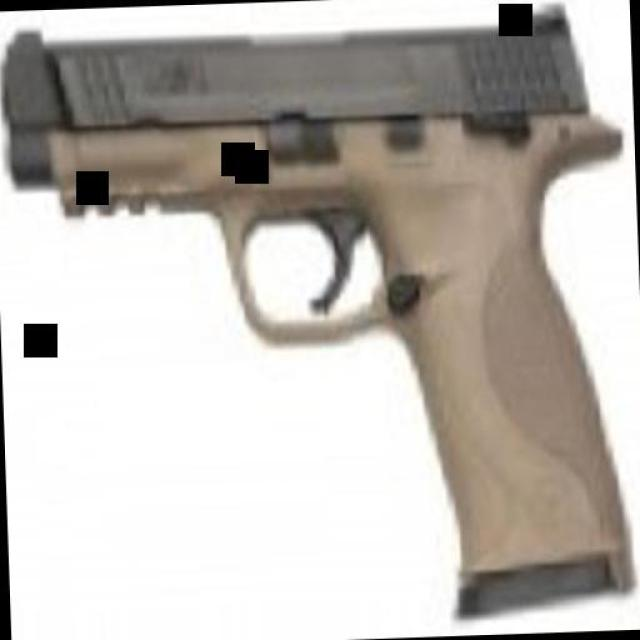gun: (4, 10, 636, 618)
